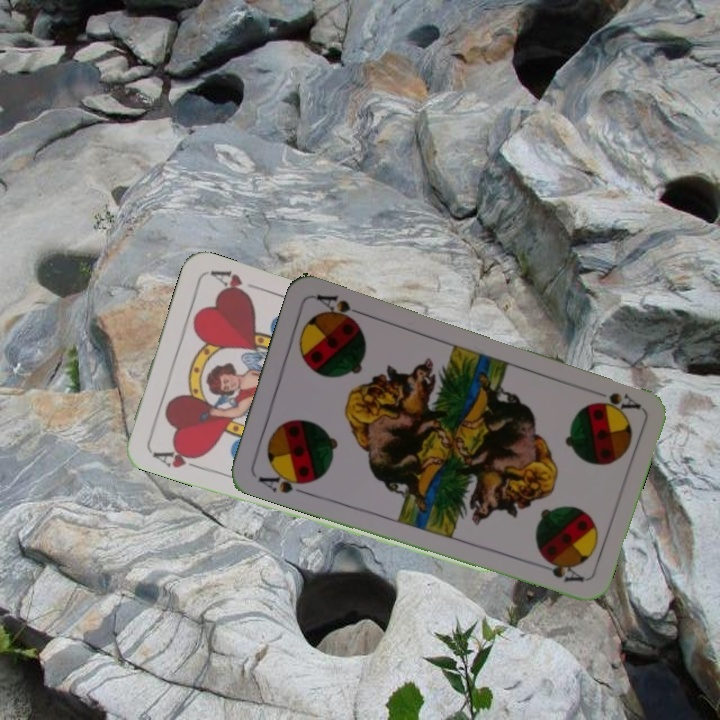HA: (148, 443, 207, 472)
SA: (254, 465, 311, 497), (585, 385, 643, 415)
